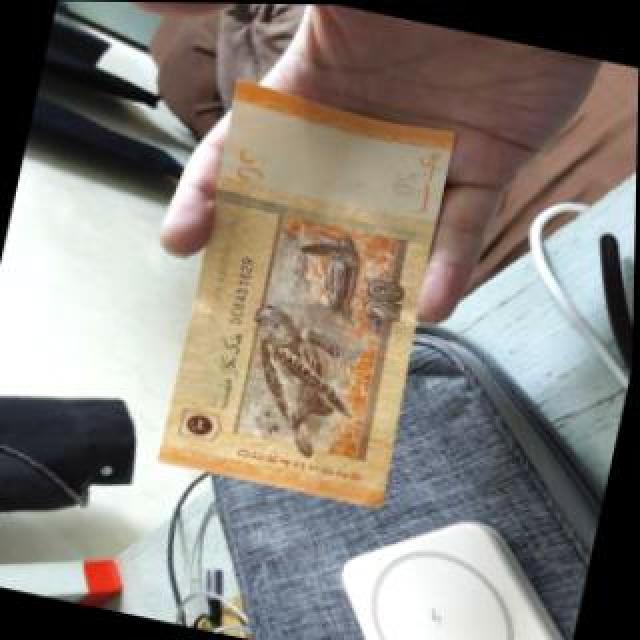20 Ringgit: (158, 68, 462, 503)
